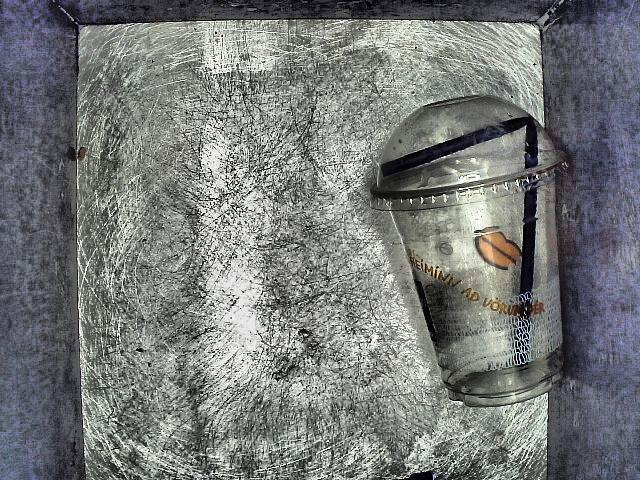Plastic: (375, 78, 578, 420)
